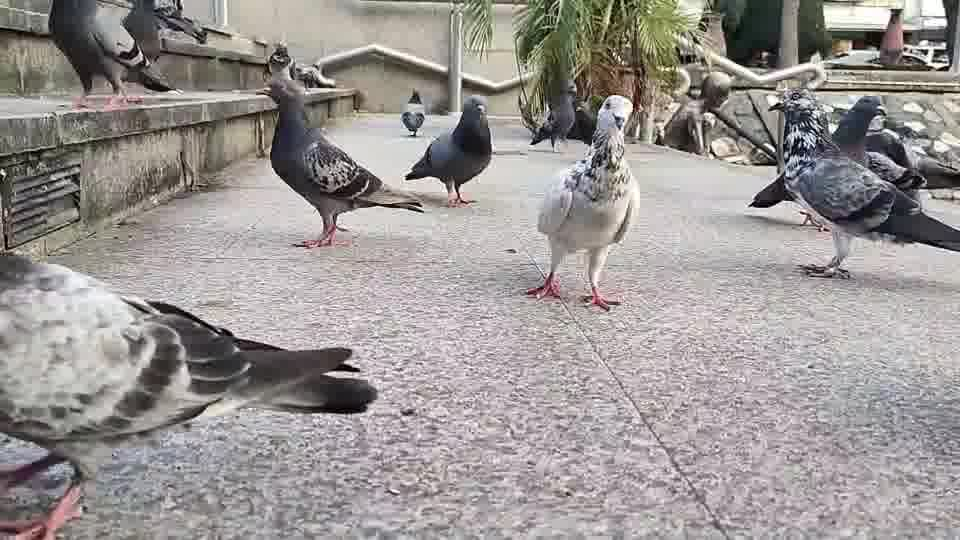Pigeon: (0, 251, 377, 538), (757, 88, 958, 280), (256, 79, 424, 248), (524, 93, 640, 311), (46, 0, 206, 111), (403, 94, 492, 208), (528, 79, 578, 152), (399, 87, 425, 136)
